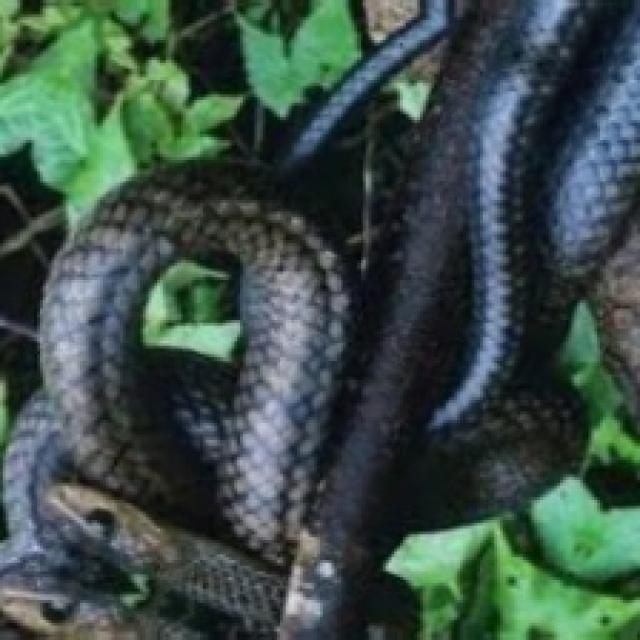smooth-scaled mountain rat snake: (0, 0, 637, 637)
